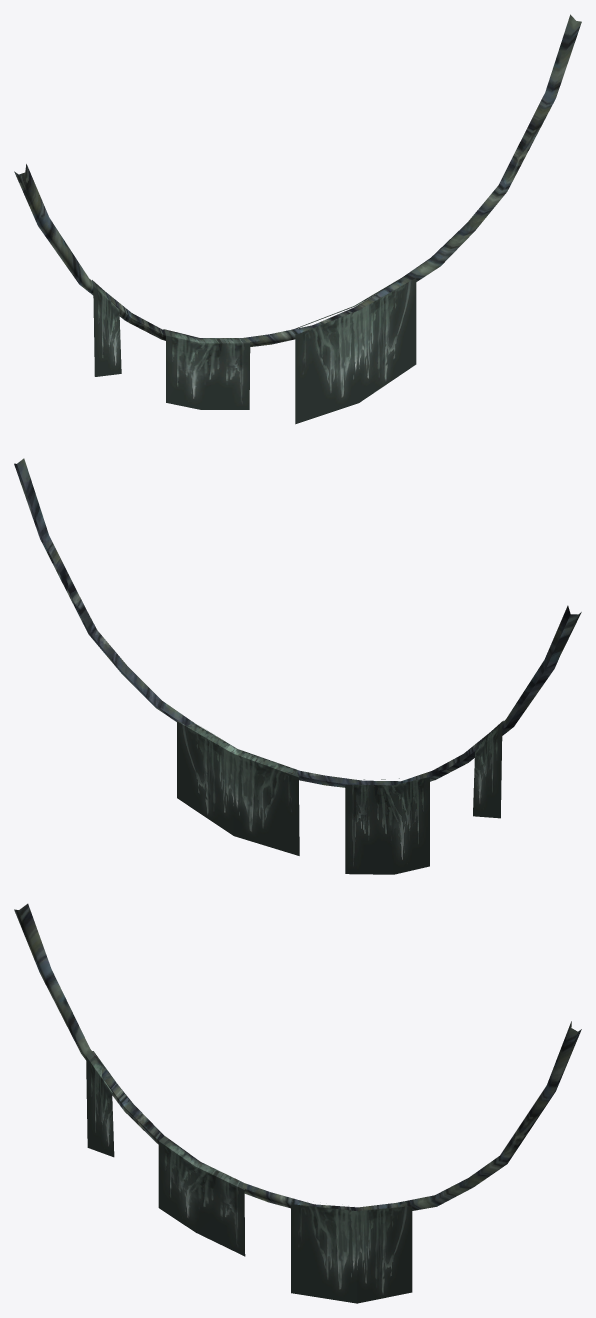
Rendered from dro_env_hanging_vine_small.glb.
The picture shows the model from 3 angles, top to bottom: view 1: azimuth 30°, elevation 25°; view 2: azimuth 150°, elevation 25°; view 3: azimuth 330°, elevation 25°; orthographic projection.
Parts seen in each view (by area): view 1: dro_env_hanging_vine_small; view 2: dro_env_hanging_vine_small; view 3: dro_env_hanging_vine_small.
Boxes of the visible parts, <box> form: dro_env_hanging_vine_small: <box>14,14,581,424</box>; dro_env_hanging_vine_small: <box>14,458,581,874</box>; dro_env_hanging_vine_small: <box>14,903,581,1303</box>.
Size of the model in its own units: 1.81 by 1.04 by 0.0494.
1 material, 1 textured.
